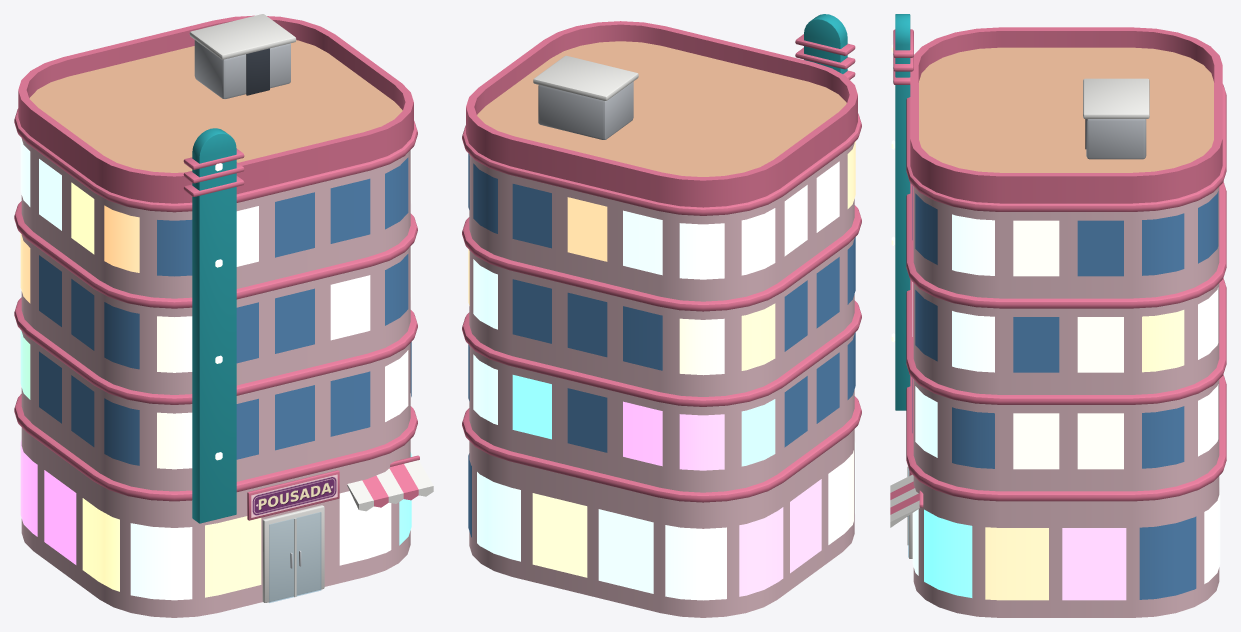
Rendered from deco_faixa_rosa.glb.
The picture shows the model from 3 angles, left to right: view 1: azimuth 30°, elevation 25°; view 2: azimuth 150°, elevation 25°; view 3: azimuth 270°, elevation 25°; orthographic projection.
Visible parts, largest first — view 1: deco_faixa_rosa; view 2: deco_faixa_rosa; view 3: deco_faixa_rosa.
Boxes of the visible parts, <box> form: deco_faixa_rosa: <box>14,14,433,617</box>; deco_faixa_rosa: <box>462,14,861,617</box>; deco_faixa_rosa: <box>890,14,1226,617</box>.
Size of the model in its own units: 10.84 by 16.2 by 10.12.
11 materials, 2 textured.
